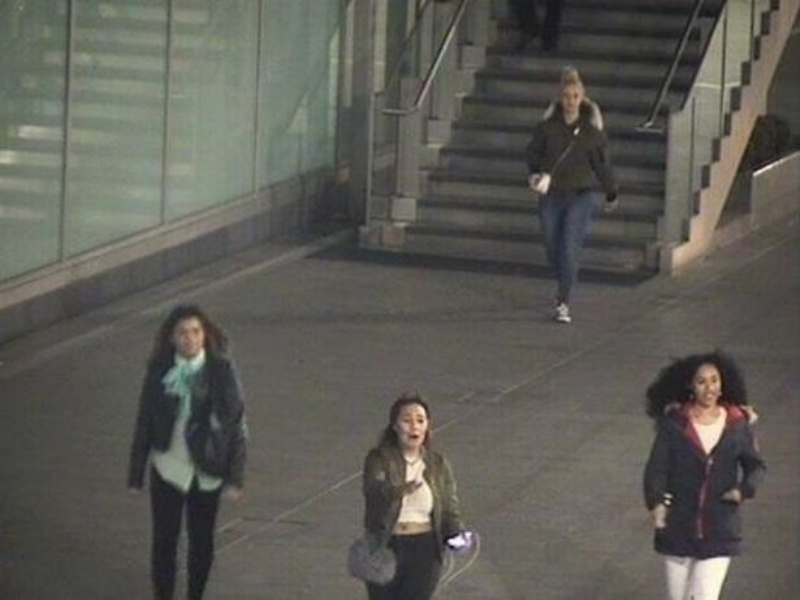person: (125, 295, 255, 600), (638, 348, 771, 600), (342, 391, 489, 600), (519, 65, 622, 324)
